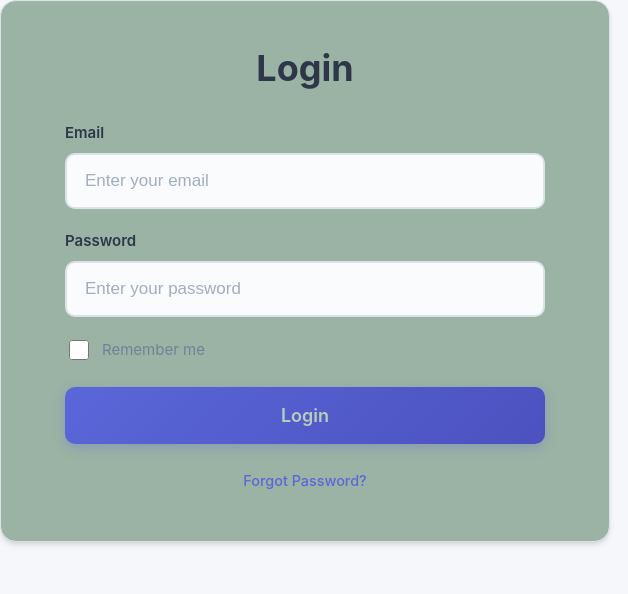
Test: LoginForm › form validation › should show error when submitting with empty password
Type "test@example.com" into the field with test id "email-input" at (305, 181), box [65,153,545,209]
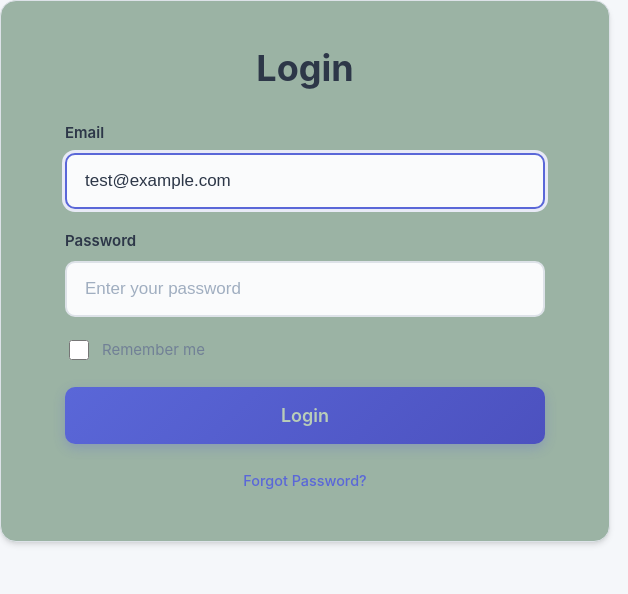
Click the button with test id "login-submit" at (305, 415), box [65,387,545,444]
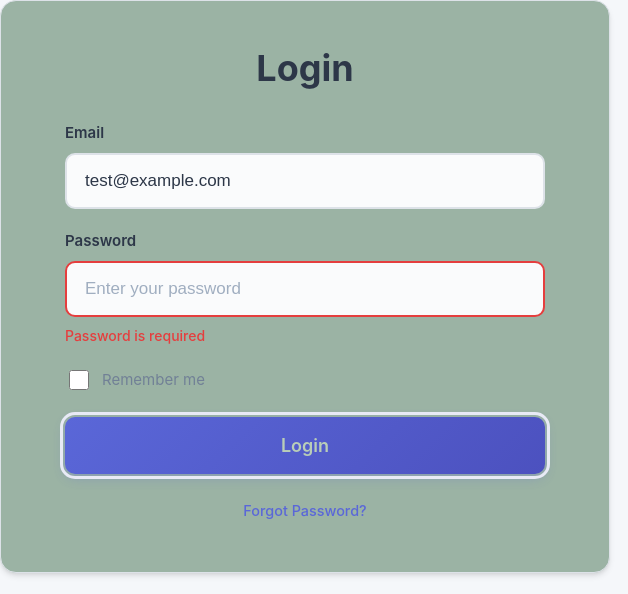
expect the text "Password is required" is shown: met, box [65,327,205,344]
